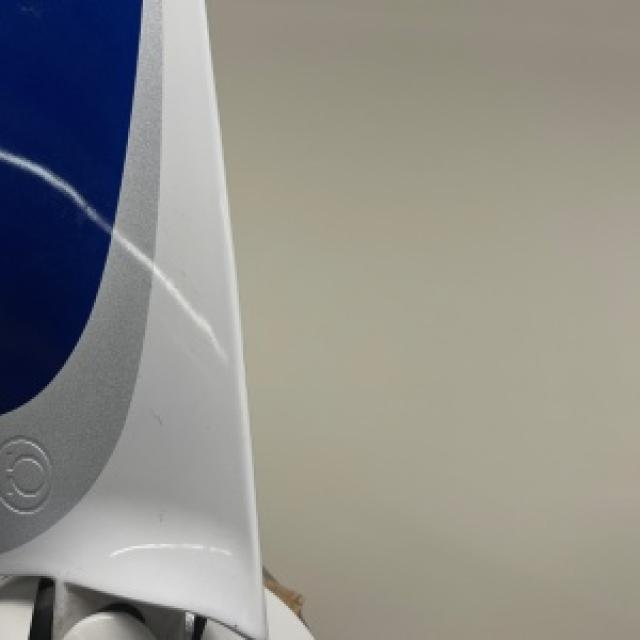healthy: (0, 0, 307, 638)
